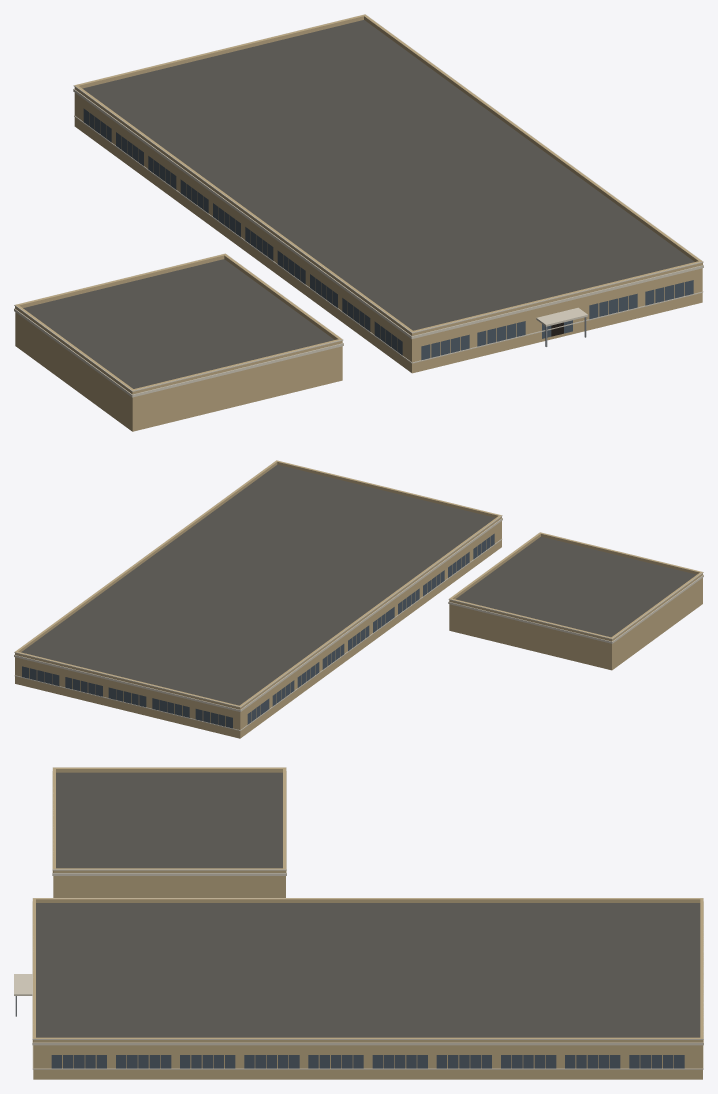
Rendered from otter-creek-elementary.glb.
3 views of the same model, one above another, from view 1: azimuth 30°, elevation 25°; view 2: azimuth 150°, elevation 25°; view 3: azimuth 270°, elevation 25° (orthographic). The views are drawn at different scales.
Parts seen in each view (by area): view 1: otter_creek_elementary; view 2: otter_creek_elementary; view 3: otter_creek_elementary.
Boxes of the visible parts, box(x1,y1,x2,y2) form: otter_creek_elementary: box(14, 14, 703, 431); otter_creek_elementary: box(14, 460, 703, 738); otter_creek_elementary: box(14, 767, 703, 1079).
Bounding box in the file's own units: 80.24 × 5.6 × 86.02.
